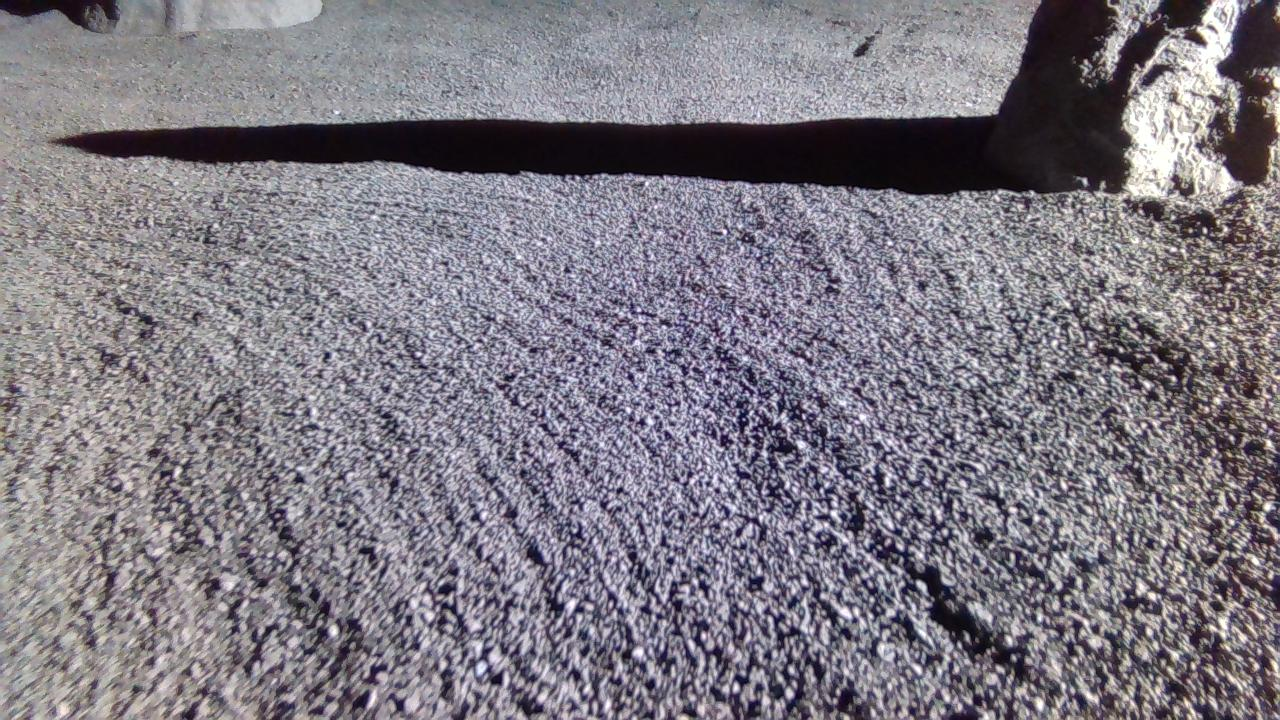rock: (988, 0, 1280, 195), (72, 0, 322, 33)
